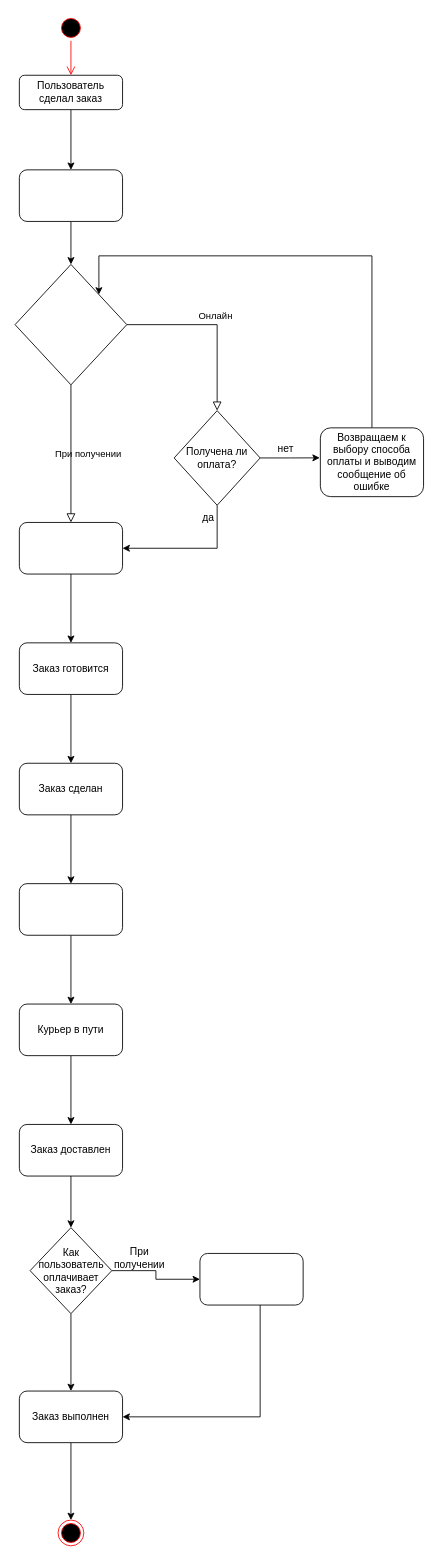
The diagram is 439 pixels wide and 1561 high, and some of its shapes have lost their labels. Here are the shapes that lost their labels. From the top down, the centre of each, then its label:
point 70,195: Заказ был создан
point 70,324: Как пользователь будет оплачивать заказ
point 70,548: Заказ передан в ресторан
point 70,909: Заказ передан курьеру
point 251,1279: Курьер получил деньги
